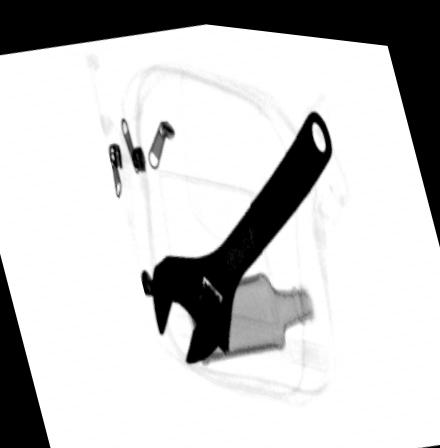Wrench: (149, 102, 335, 363)
